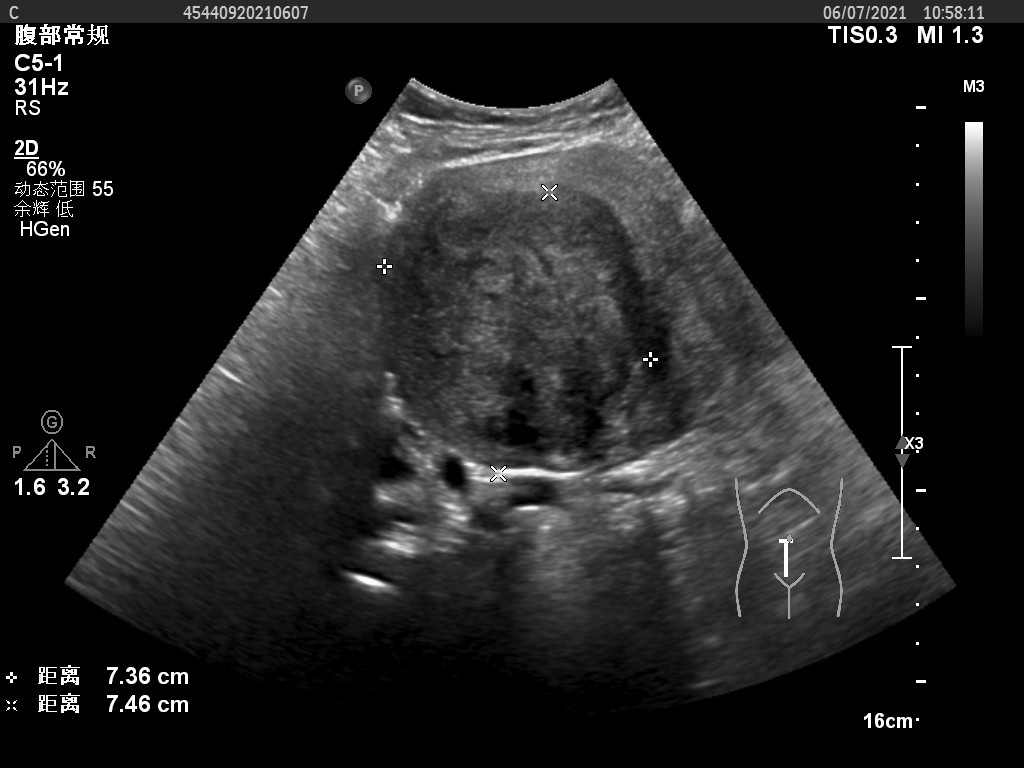肌瘤: (405, 206, 627, 452)
